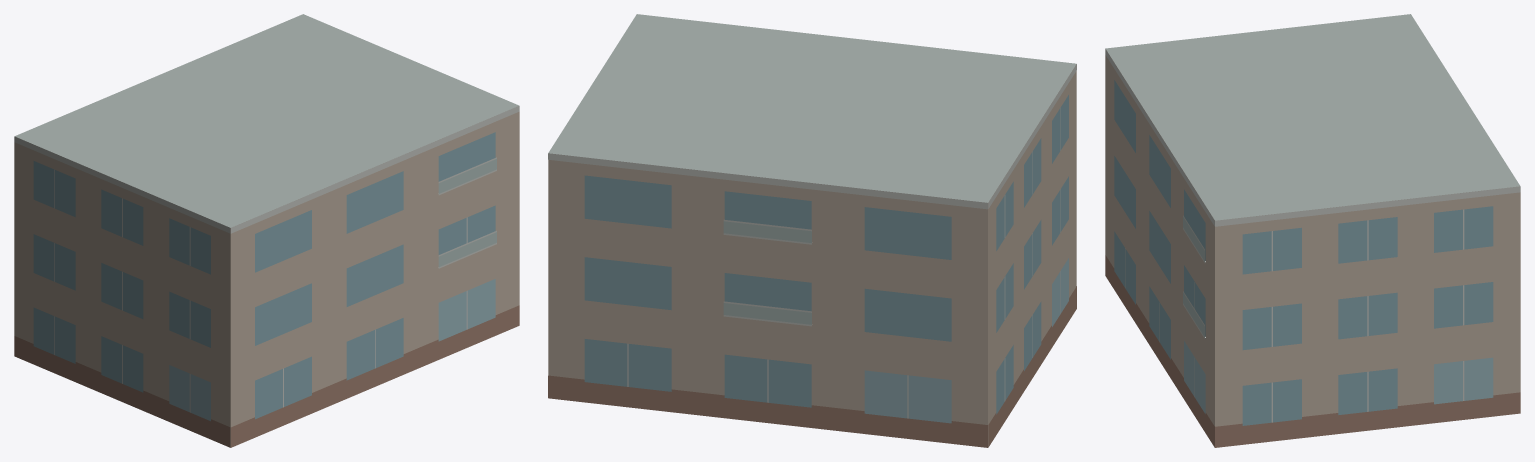
The model's file is survey-upis-32890610.glb.
The picture shows the model from 3 angles, left to right: view 1: azimuth 30°, elevation 25°; view 2: azimuth 150°, elevation 25°; view 3: azimuth 270°, elevation 25°; orthographic projection. The views are drawn at different scales.
Visible parts, largest first — view 1: survey-upis-32890610.tmp; view 2: survey-upis-32890610.tmp; view 3: survey-upis-32890610.tmp.
Part boxes in pixels (x1,y1,x2,y2): survey-upis-32890610.tmp: (14, 14, 519, 447); survey-upis-32890610.tmp: (548, 14, 1076, 447); survey-upis-32890610.tmp: (1105, 14, 1520, 447).
Bounding box in the file's own units: 17.87 × 9.15 × 15.17.
